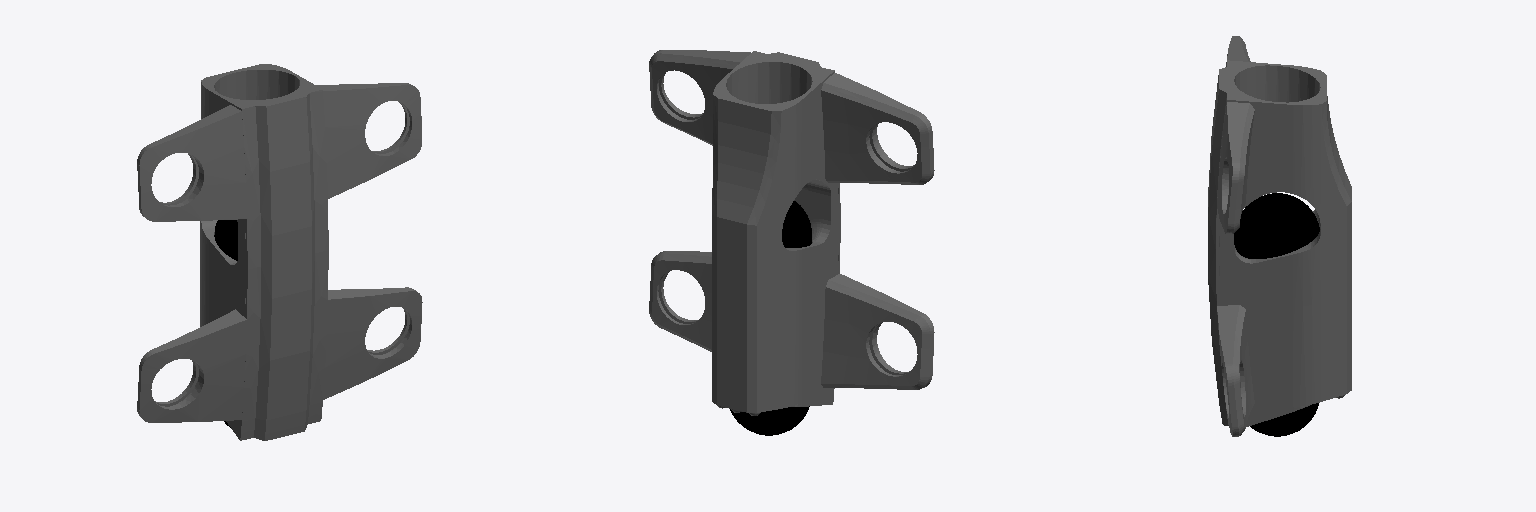
Rendered from drone.obj.
The picture shows the model from 3 angles: view 1: azimuth 30°, elevation 25°; view 2: azimuth 150°, elevation 25°; view 3: azimuth 270°, elevation 25°; orthographic projection.
Visible parts, largest first — view 1: Body Cap (1), Body, Wing Base (1) (2) (1), Wing Base (1) (1) (1), Wing Base (1) (2), Capsule, Wing Base (1) (1); view 2: Body, Base Cap (1), Wing Base (1) (2) (1), Wing Base (1) (1) (1), Wing Base (1) (1), Wing Base (1) (2), Body Cap (1), Capsule; view 3: Body, Body Cap (1), Capsule, Base Cap (1), Wing Base (1) (2), Wing Base (1) (1).
Boxes of the visible parts, <box> form: Body Cap (1): <box>138,84,422,440</box>; Body: <box>201,64,320,438</box>; Wing Base (1) (2) (1): <box>137,309,244,415</box>; Wing Base (1) (1) (1): <box>137,105,238,216</box>; Wing Base (1) (2): <box>328,287,415,354</box>; Capsule: <box>214,220,237,427</box>; Wing Base (1) (1): <box>316,83,409,153</box>; Body: <box>713,52,838,409</box>; Base Cap (1): <box>712,145,772,412</box>; Wing Base (1) (2) (1): <box>821,274,931,389</box>; Wing Base (1) (1) (1): <box>821,74,931,184</box>; Wing Base (1) (1): <box>649,51,749,145</box>; Wing Base (1) (2): <box>649,252,711,351</box>; Body Cap (1): <box>654,50,934,404</box>; Capsule: <box>730,201,811,435</box>; Body: <box>1219,61,1330,426</box>; Body Cap (1): <box>1208,36,1235,436</box>; Capsule: <box>1234,193,1319,436</box>; Base Cap (1): <box>1331,124,1351,398</box>; Wing Base (1) (2): <box>1220,305,1254,436</box>; Wing Base (1) (1): <box>1230,102,1254,233</box>.
Size of the model in its own units: 28.1 by 33.75 by 12.46.